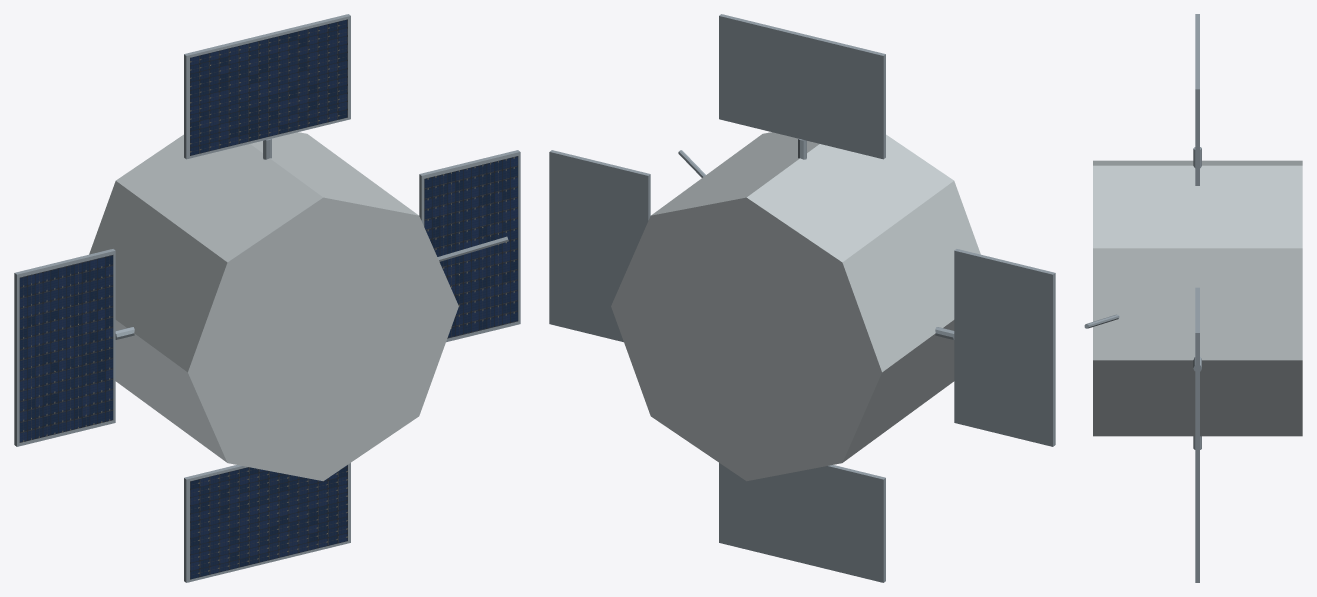
Rendered from ref-epe-445.glb.
The picture shows the model from 3 angles, left to right: view 1: azimuth 30°, elevation 25°; view 2: azimuth 150°, elevation 25°; view 3: azimuth 270°, elevation 25°; orthographic projection. The views are drawn at different scales.
Visible parts, largest first — view 1: Spacecraft body, Photovoltaic laminates (×4), Array frame (×4); view 2: Spacecraft body, Array frame (×4); view 3: Spacecraft body, Array frame (×3).
Boxes of the visible parts, <box> form: Spacecraft body: <box>89,132,458,481</box>; Photovoltaic laminates (×4): <box>19,19,518,579</box>; Array frame (×4): <box>14,14,520,582</box>; Spacecraft body: <box>611,132,980,481</box>; Array frame (×4): <box>549,14,1055,582</box>; Spacecraft body: <box>1093,160,1302,436</box>; Array frame (×3): <box>1195,14,1199,582</box>.
Size of the model in its own units: 1.3 by 1.3 by 0.5203.
3 materials, 1 textured.
